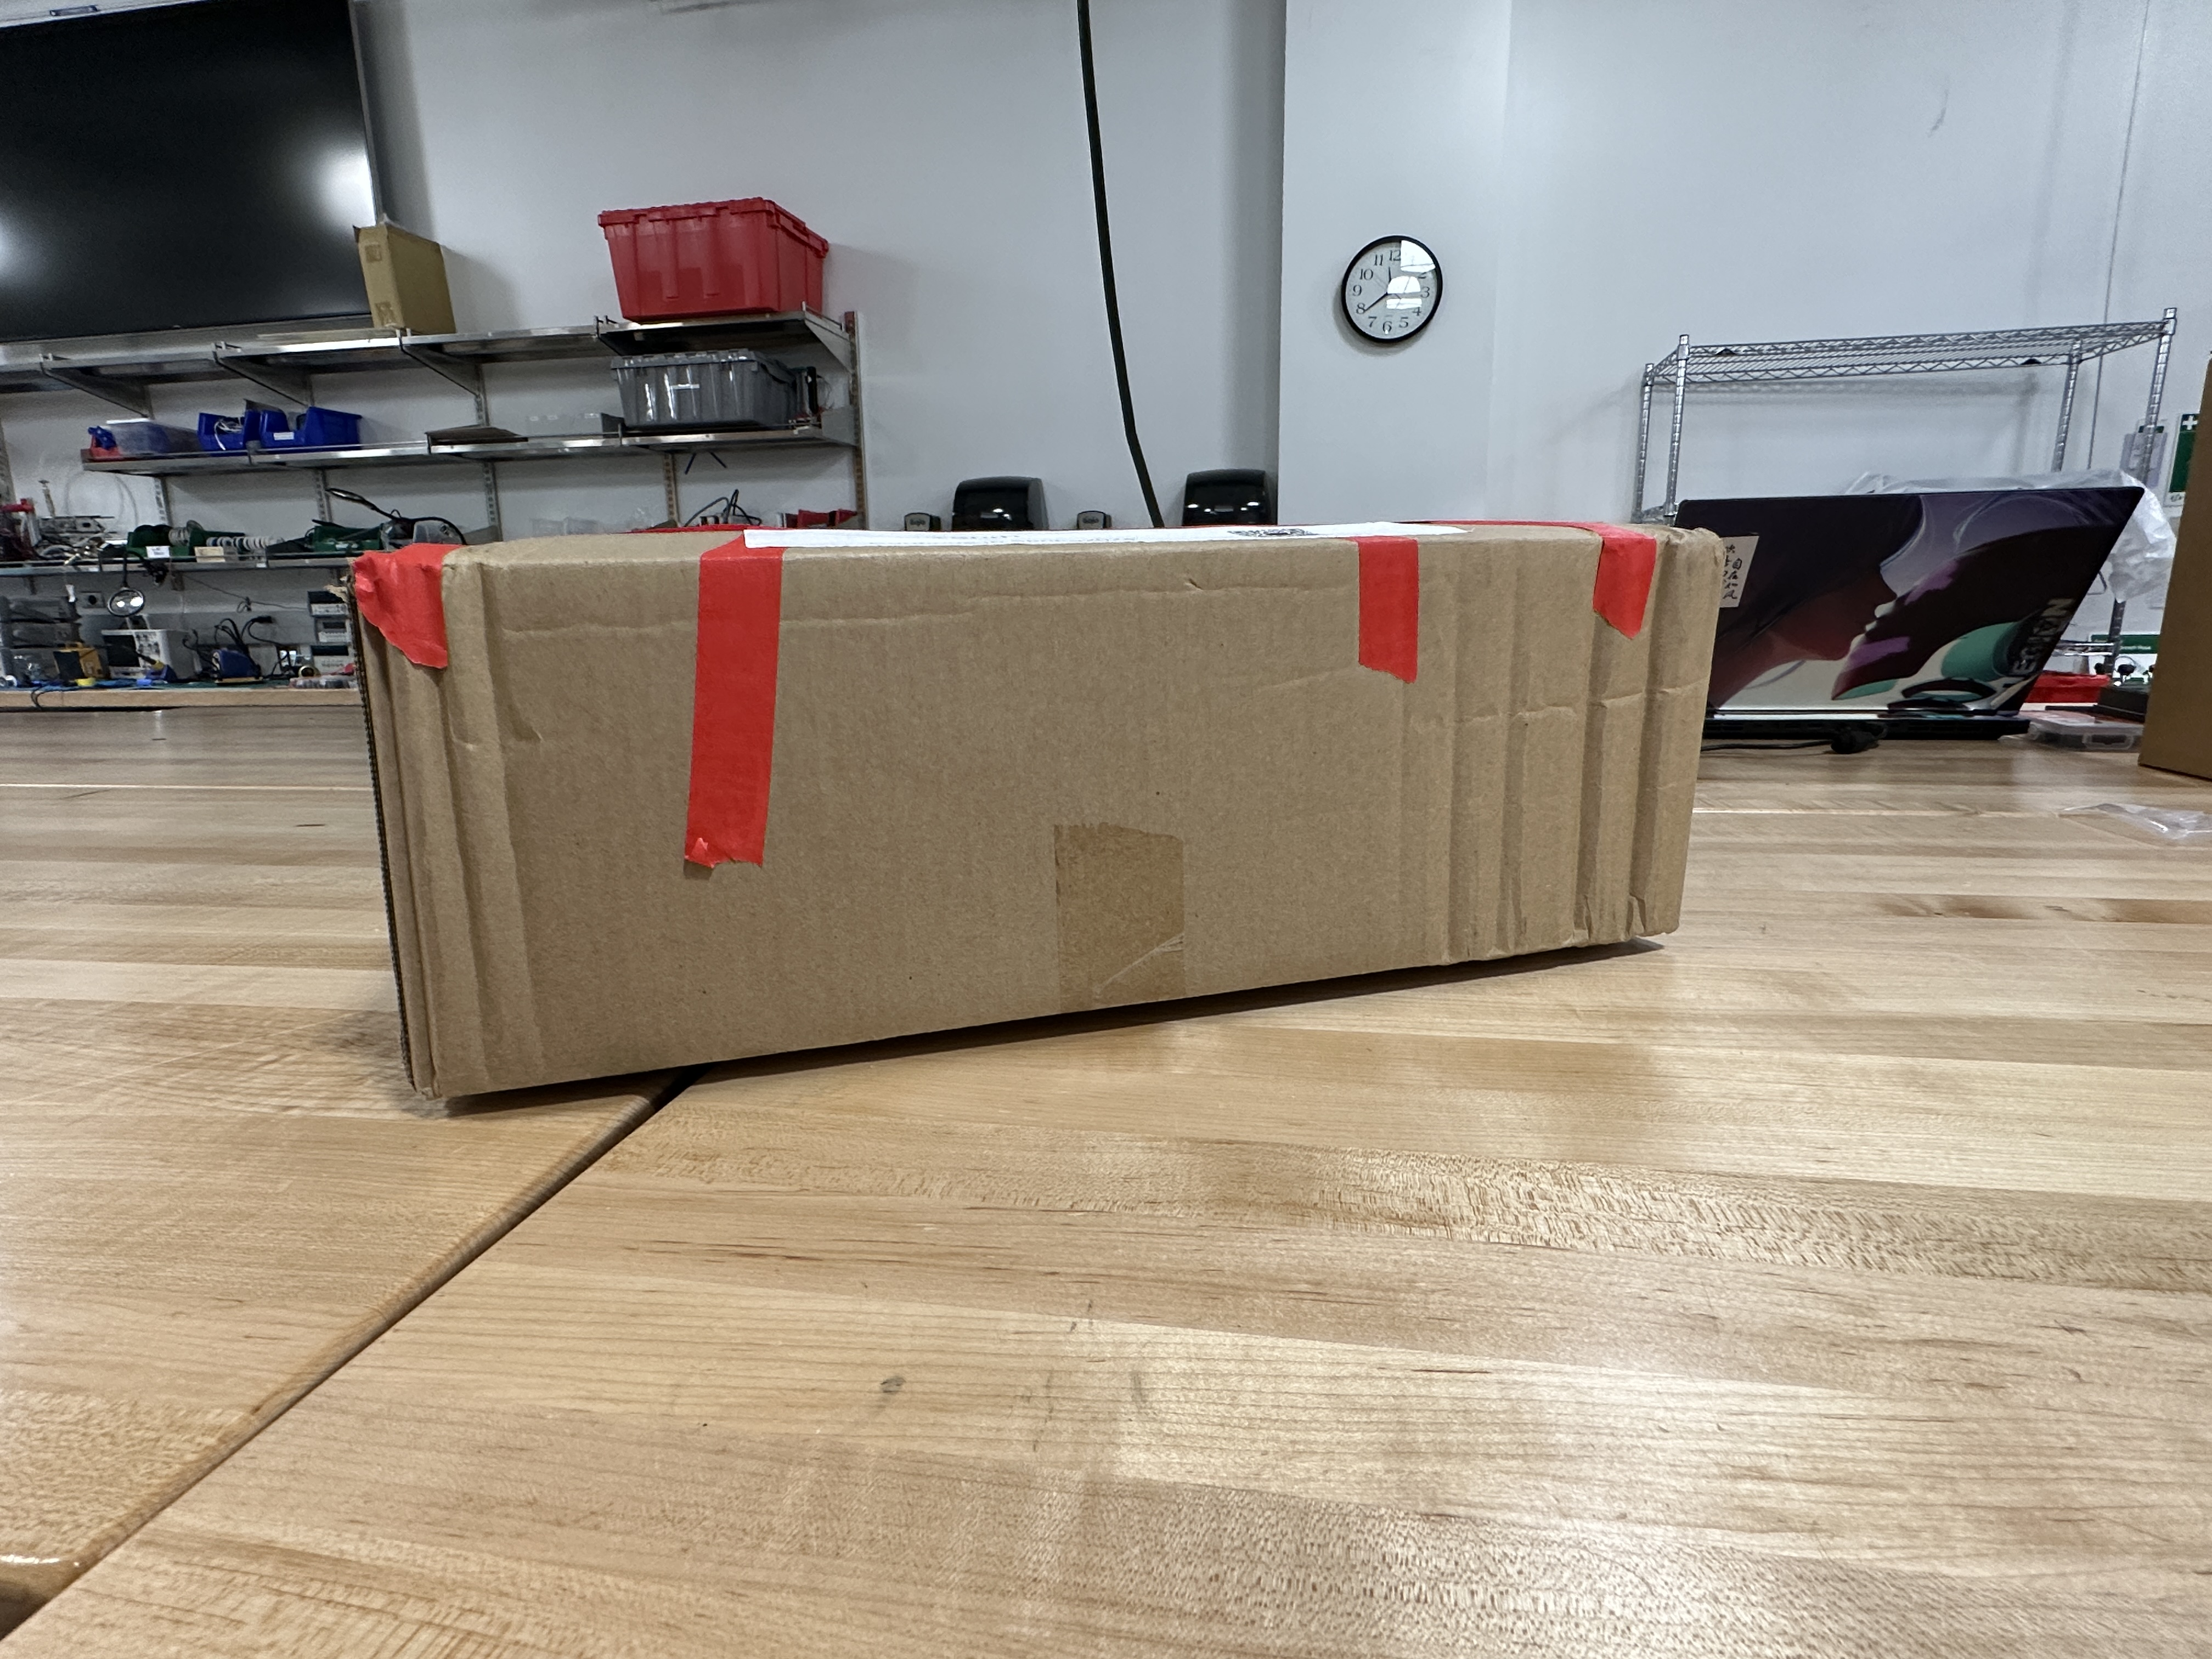Box_Obstacle: (324, 514, 1740, 1121)
